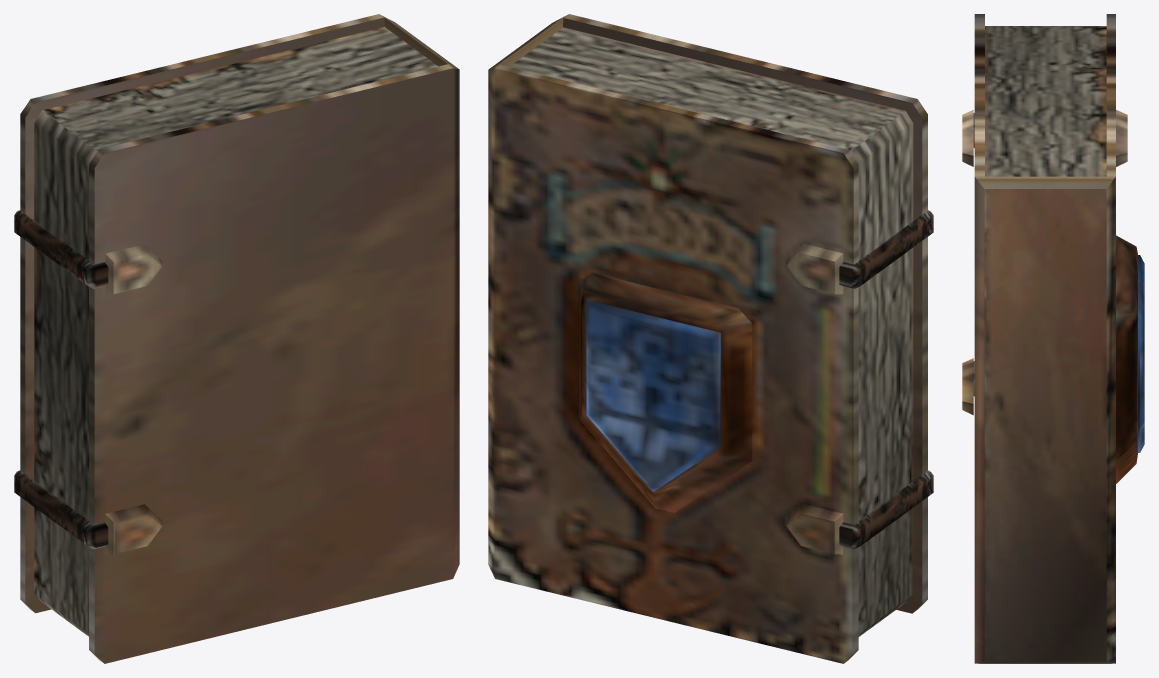
File: static.ico.obj
3 renders of one model, left to right at view 1: azimuth 30°, elevation 25°; view 2: azimuth 150°, elevation 25°; view 3: azimuth 270°, elevation 25°, orthographic. The views are drawn at different scales.
Size of the model in its own units: 3.82 by 4.96 by 1.68.
1 material, 1 textured.
